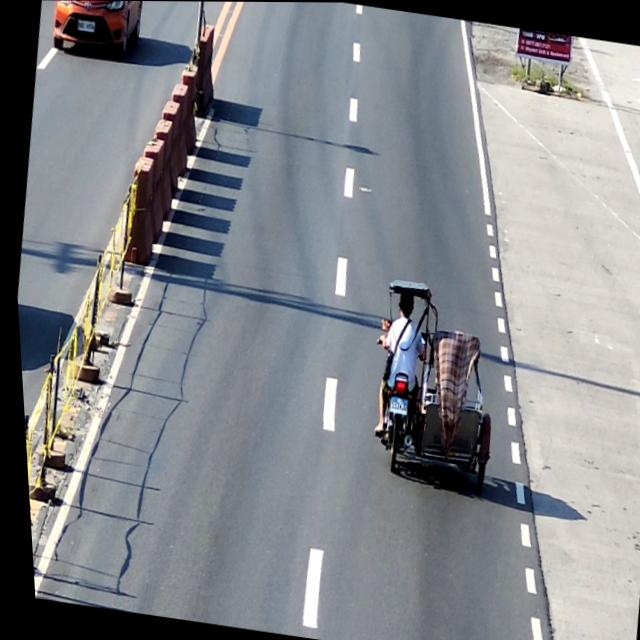Car: (48, 0, 149, 58)
License-Plate: (384, 397, 404, 415), (76, 20, 95, 32)
Tricycle: (351, 274, 510, 494)
